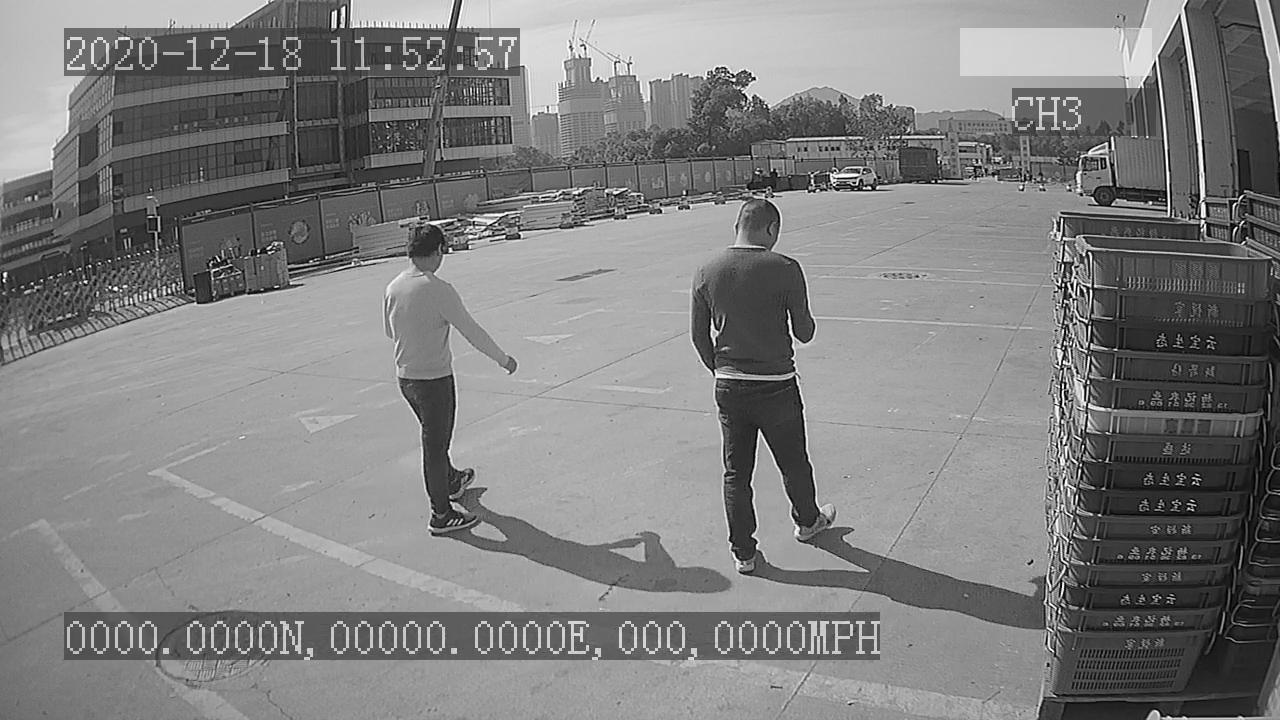person: (683, 195, 847, 576), (377, 208, 524, 538)
